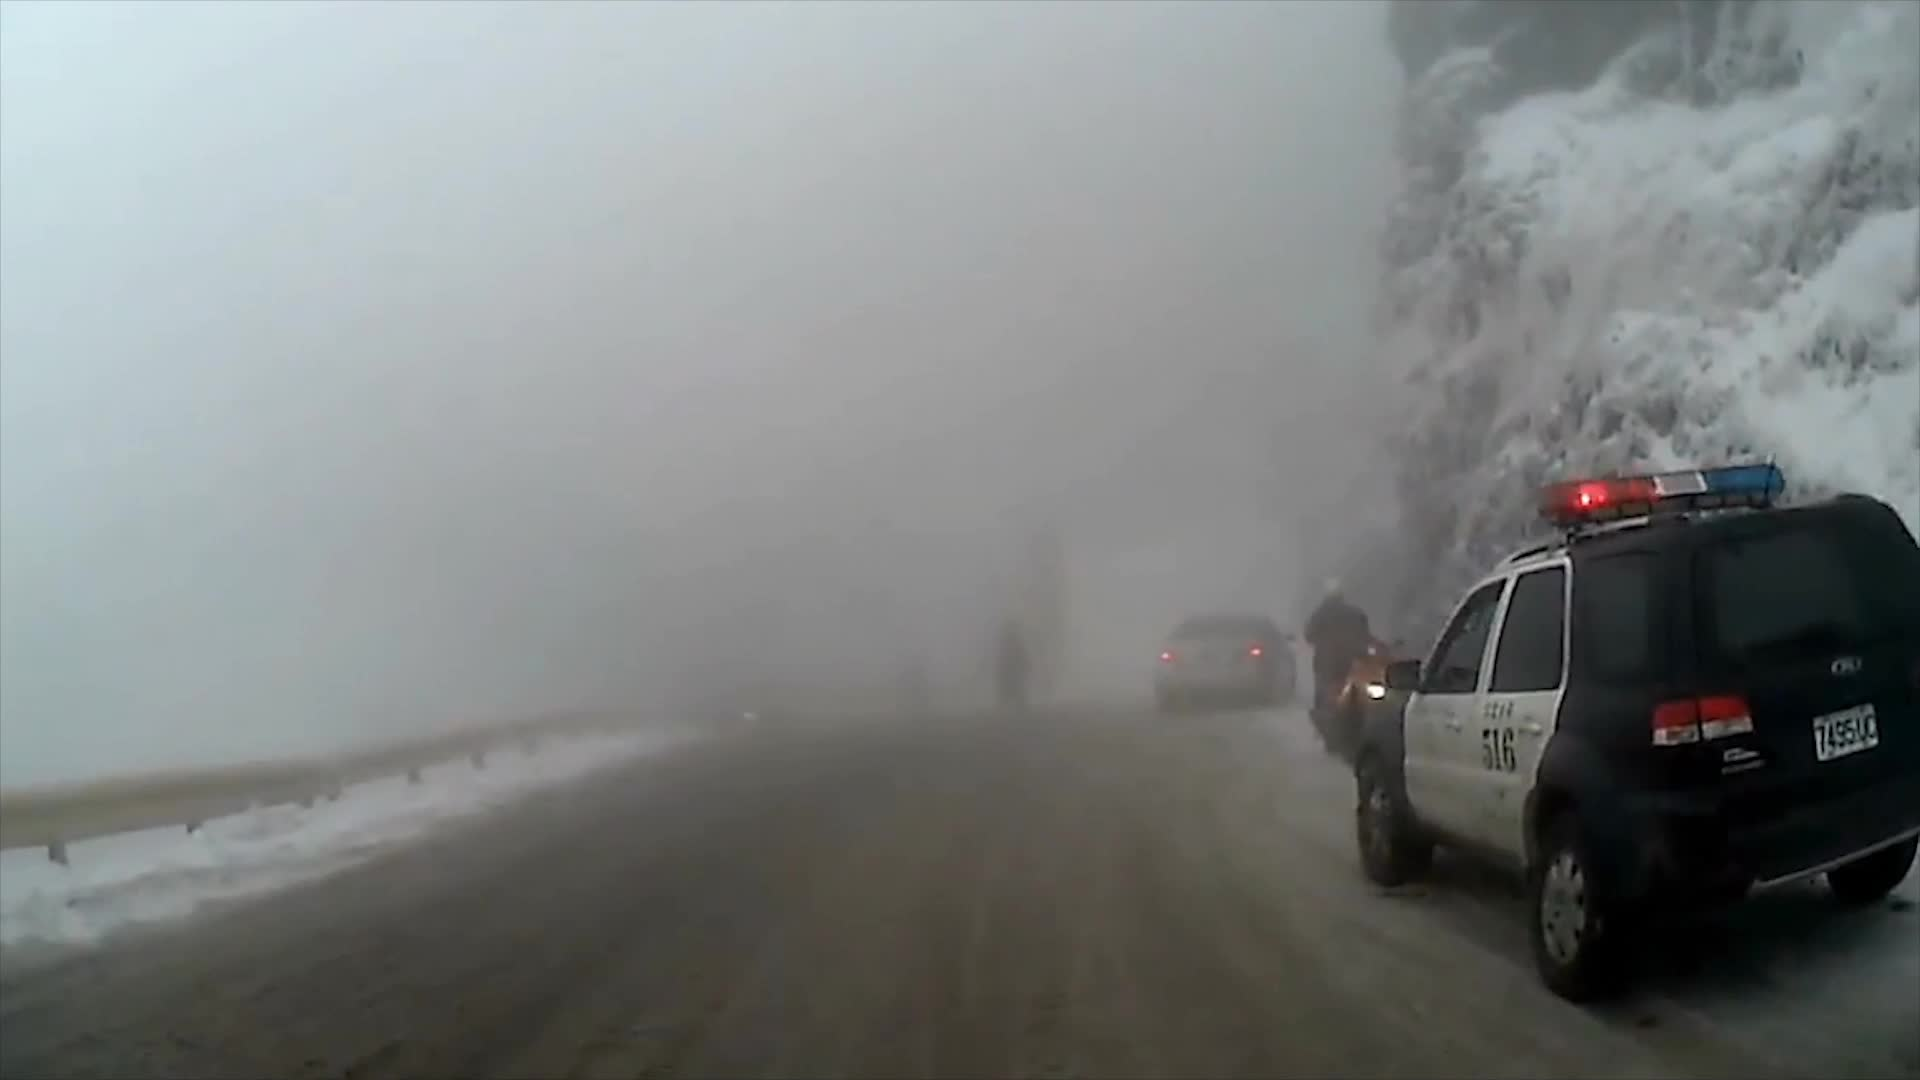pedestrian: (1304, 577, 1381, 744)
vehicle: (1350, 459, 1919, 1009), (1157, 606, 1302, 711)
